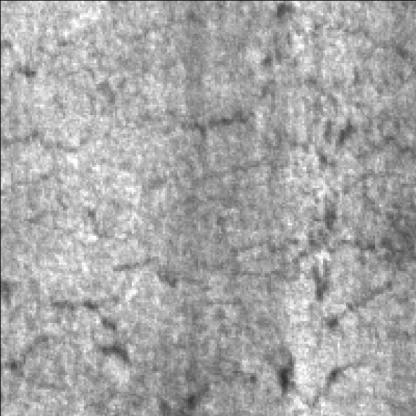crazing: (222, 168, 410, 381), (176, 10, 408, 173), (0, 282, 170, 395)
